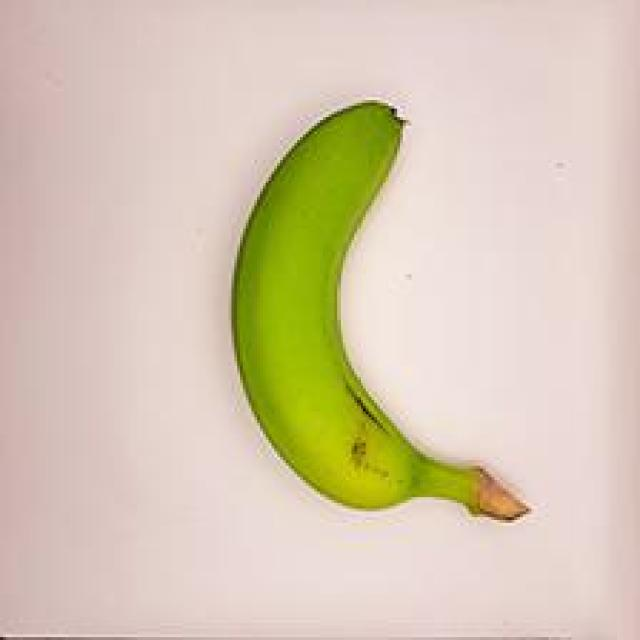Unripe: (210, 82, 540, 540)
